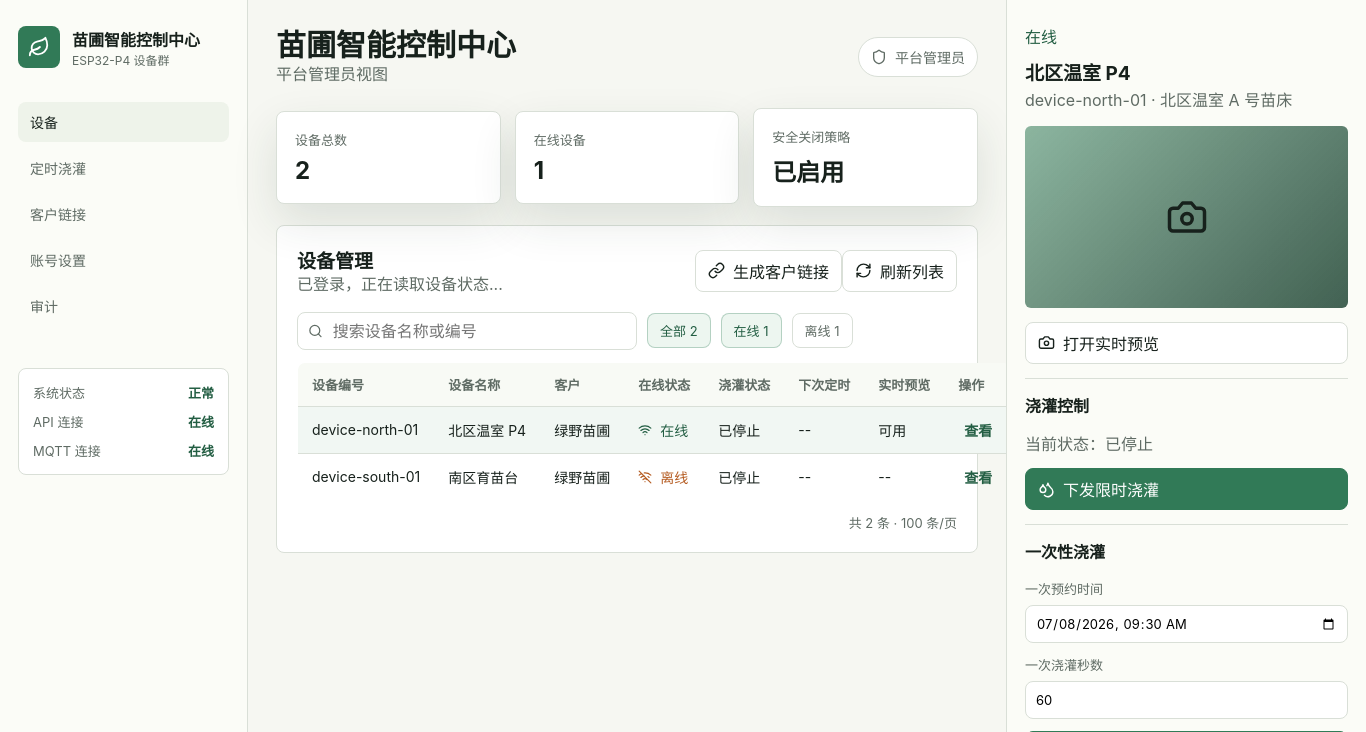
Scenario: DashboardShell device management › generates and shows a customer share link from the device list toolbar
This screenshot has width=1366, height=732.
Click the button "生成客户链接" at (768, 271), box [695,250,842,292]
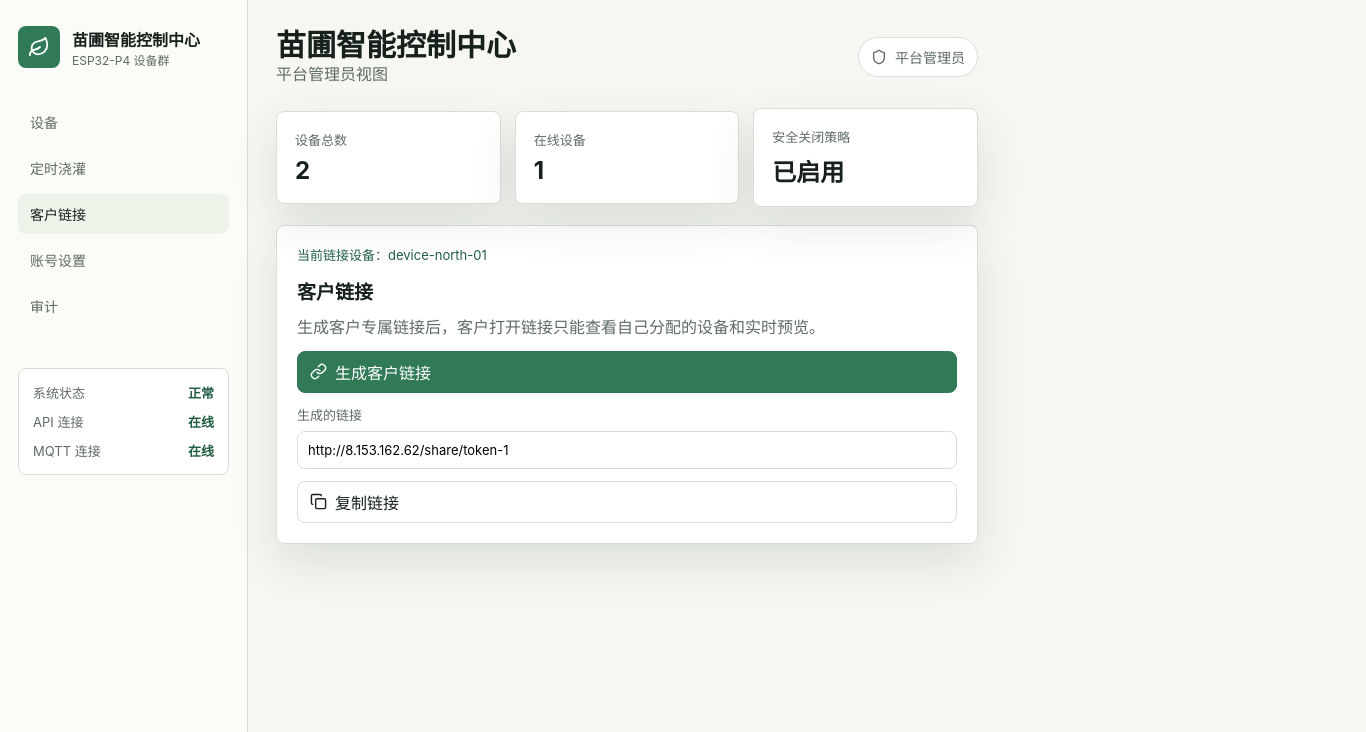
Expected: the field showing "http://8.153.162.62/share/token-1" is shown, [297,431,957,469]
Expected: the text "当前链接设备：device-north-01" is shown, [297,247,487,263]
